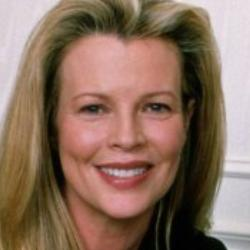face: (4, 2, 224, 234)
